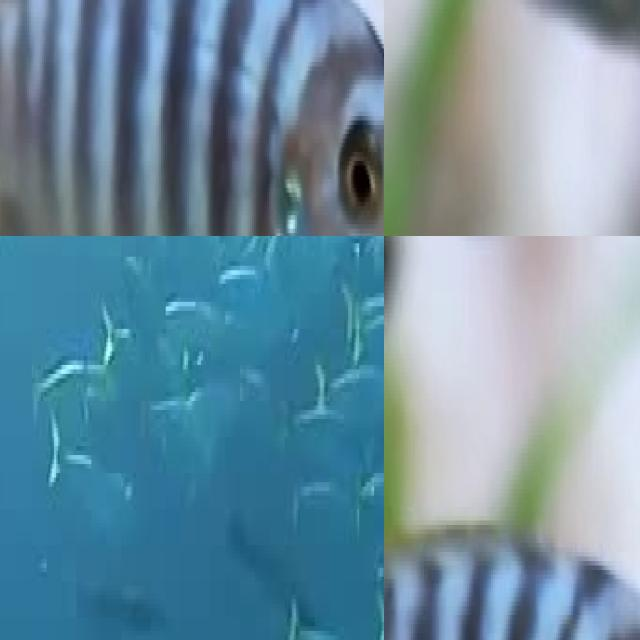fish: (0, 0, 384, 236), (384, 236, 502, 640)
